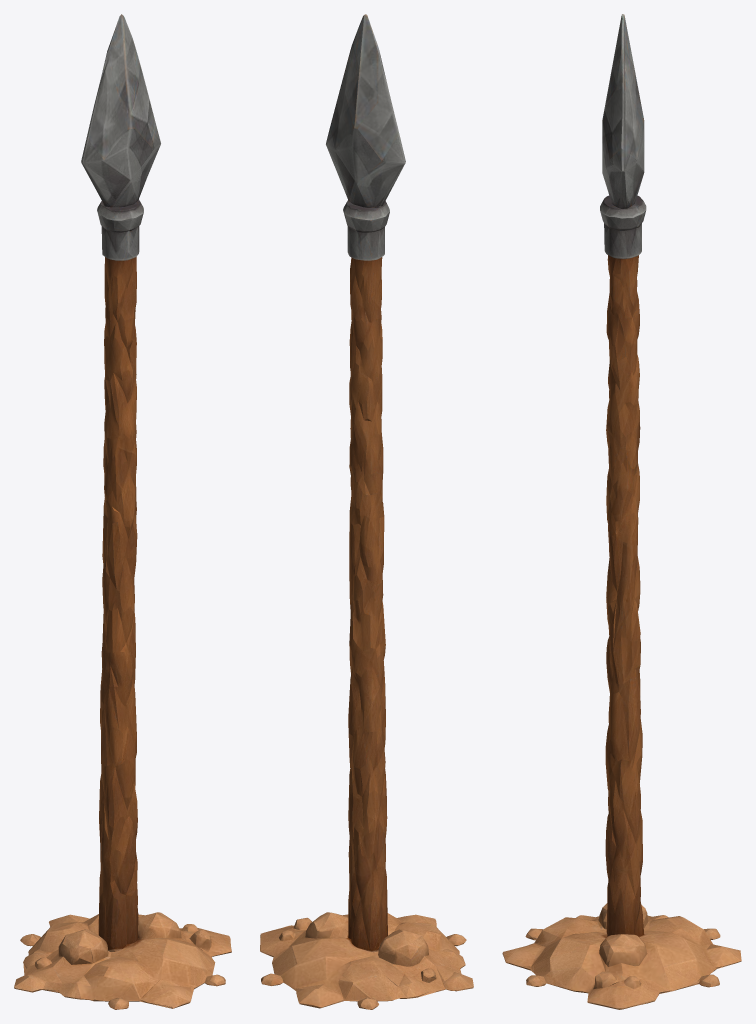
The model's file is saul-spear.glb.
3 views of the same model, side by side, from view 1: azimuth 30°, elevation 25°; view 2: azimuth 150°, elevation 25°; view 3: azimuth 270°, elevation 25° (orthographic).
Size of the model in its own units: 0.4487 by 1.9 by 0.4366.
1 material, 1 textured.
